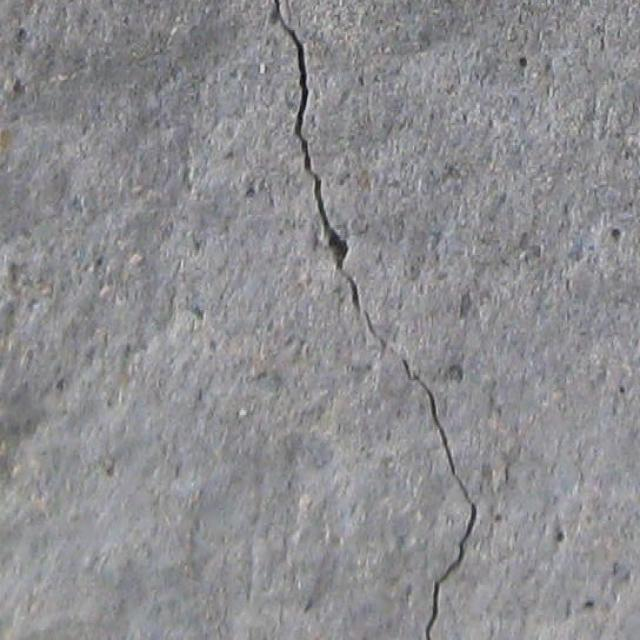crack: (272, 2, 476, 496), (420, 498, 480, 638)
